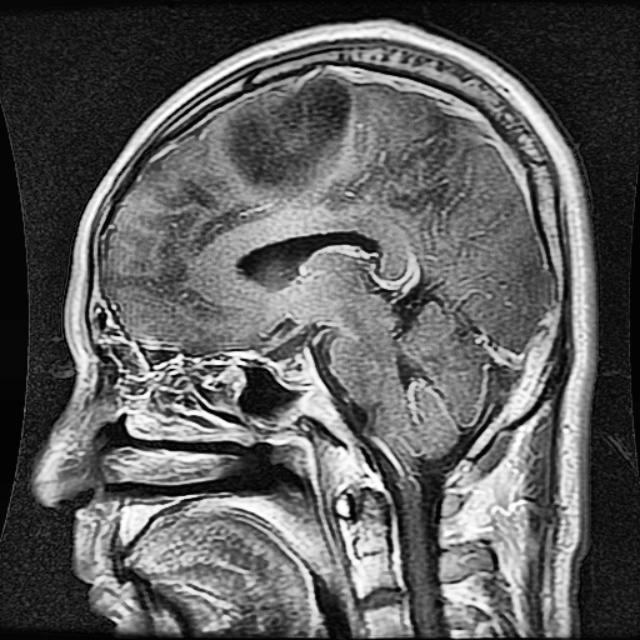Meningioma: (219, 75, 349, 190)
